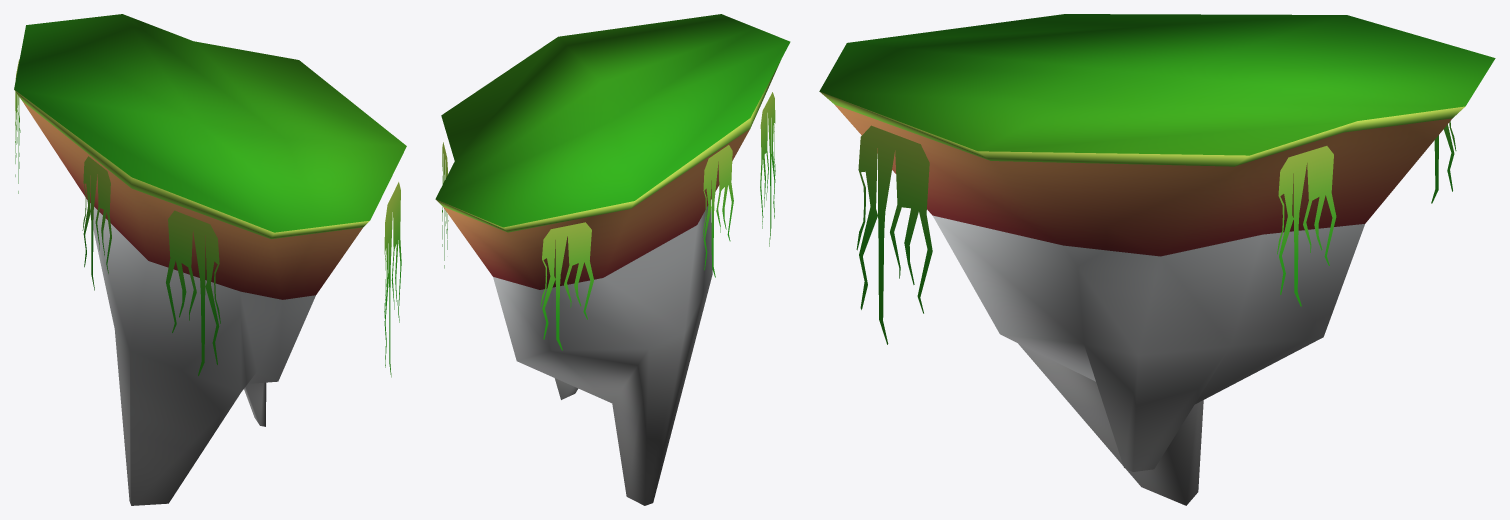
Rendered from W1_PLATFORM_5.fbx.
3 renders of one model, left to right at view 1: azimuth 30°, elevation 25°; view 2: azimuth 150°, elevation 25°; view 3: azimuth 270°, elevation 25°, orthographic. The views are drawn at different scales.
Parts seen in each view (by area): view 1: W1_PLATFORM_5; view 2: W1_PLATFORM_5; view 3: W1_PLATFORM_5.
Boxes of the visible parts, bbox=[...] form: W1_PLATFORM_5: bbox=[14, 14, 406, 505]; W1_PLATFORM_5: bbox=[435, 14, 790, 505]; W1_PLATFORM_5: bbox=[819, 14, 1495, 505].
Bounding box in the file's own units: 650 × 951 × 1305.
